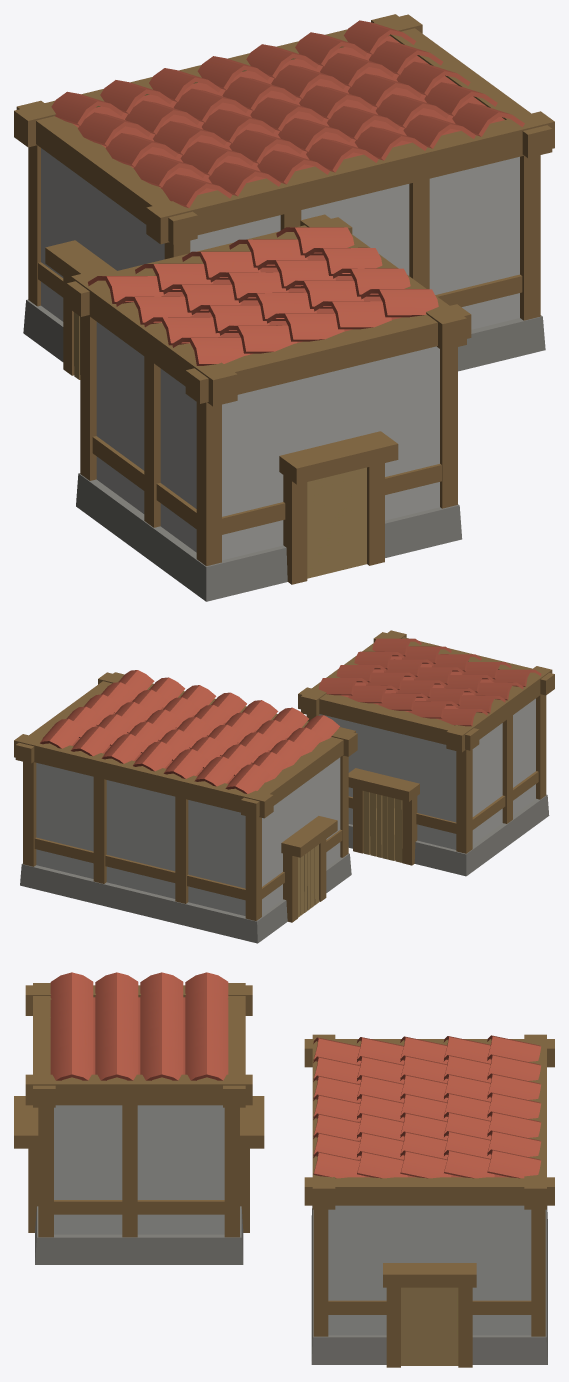
Rendered from houses.glb.
3 views of the same model, one above another, from view 1: azimuth 30°, elevation 25°; view 2: azimuth 150°, elevation 25°; view 3: azimuth 270°, elevation 25° (orthographic). The views are drawn at different scales.
Visible parts, largest first — view 1: Houses_SecondAge_3_Level2; view 2: Houses_SecondAge_3_Level2; view 3: Houses_SecondAge_3_Level2.
Boxes of the visible parts, <box> form: Houses_SecondAge_3_Level2: <box>14,14,554,601</box>; Houses_SecondAge_3_Level2: <box>14,630,554,943</box>; Houses_SecondAge_3_Level2: <box>14,972,554,1367</box>.
Size of the model in its own units: 1.35 by 0.5909 by 1.46.
Materials: 1 (1 with a texture image).
